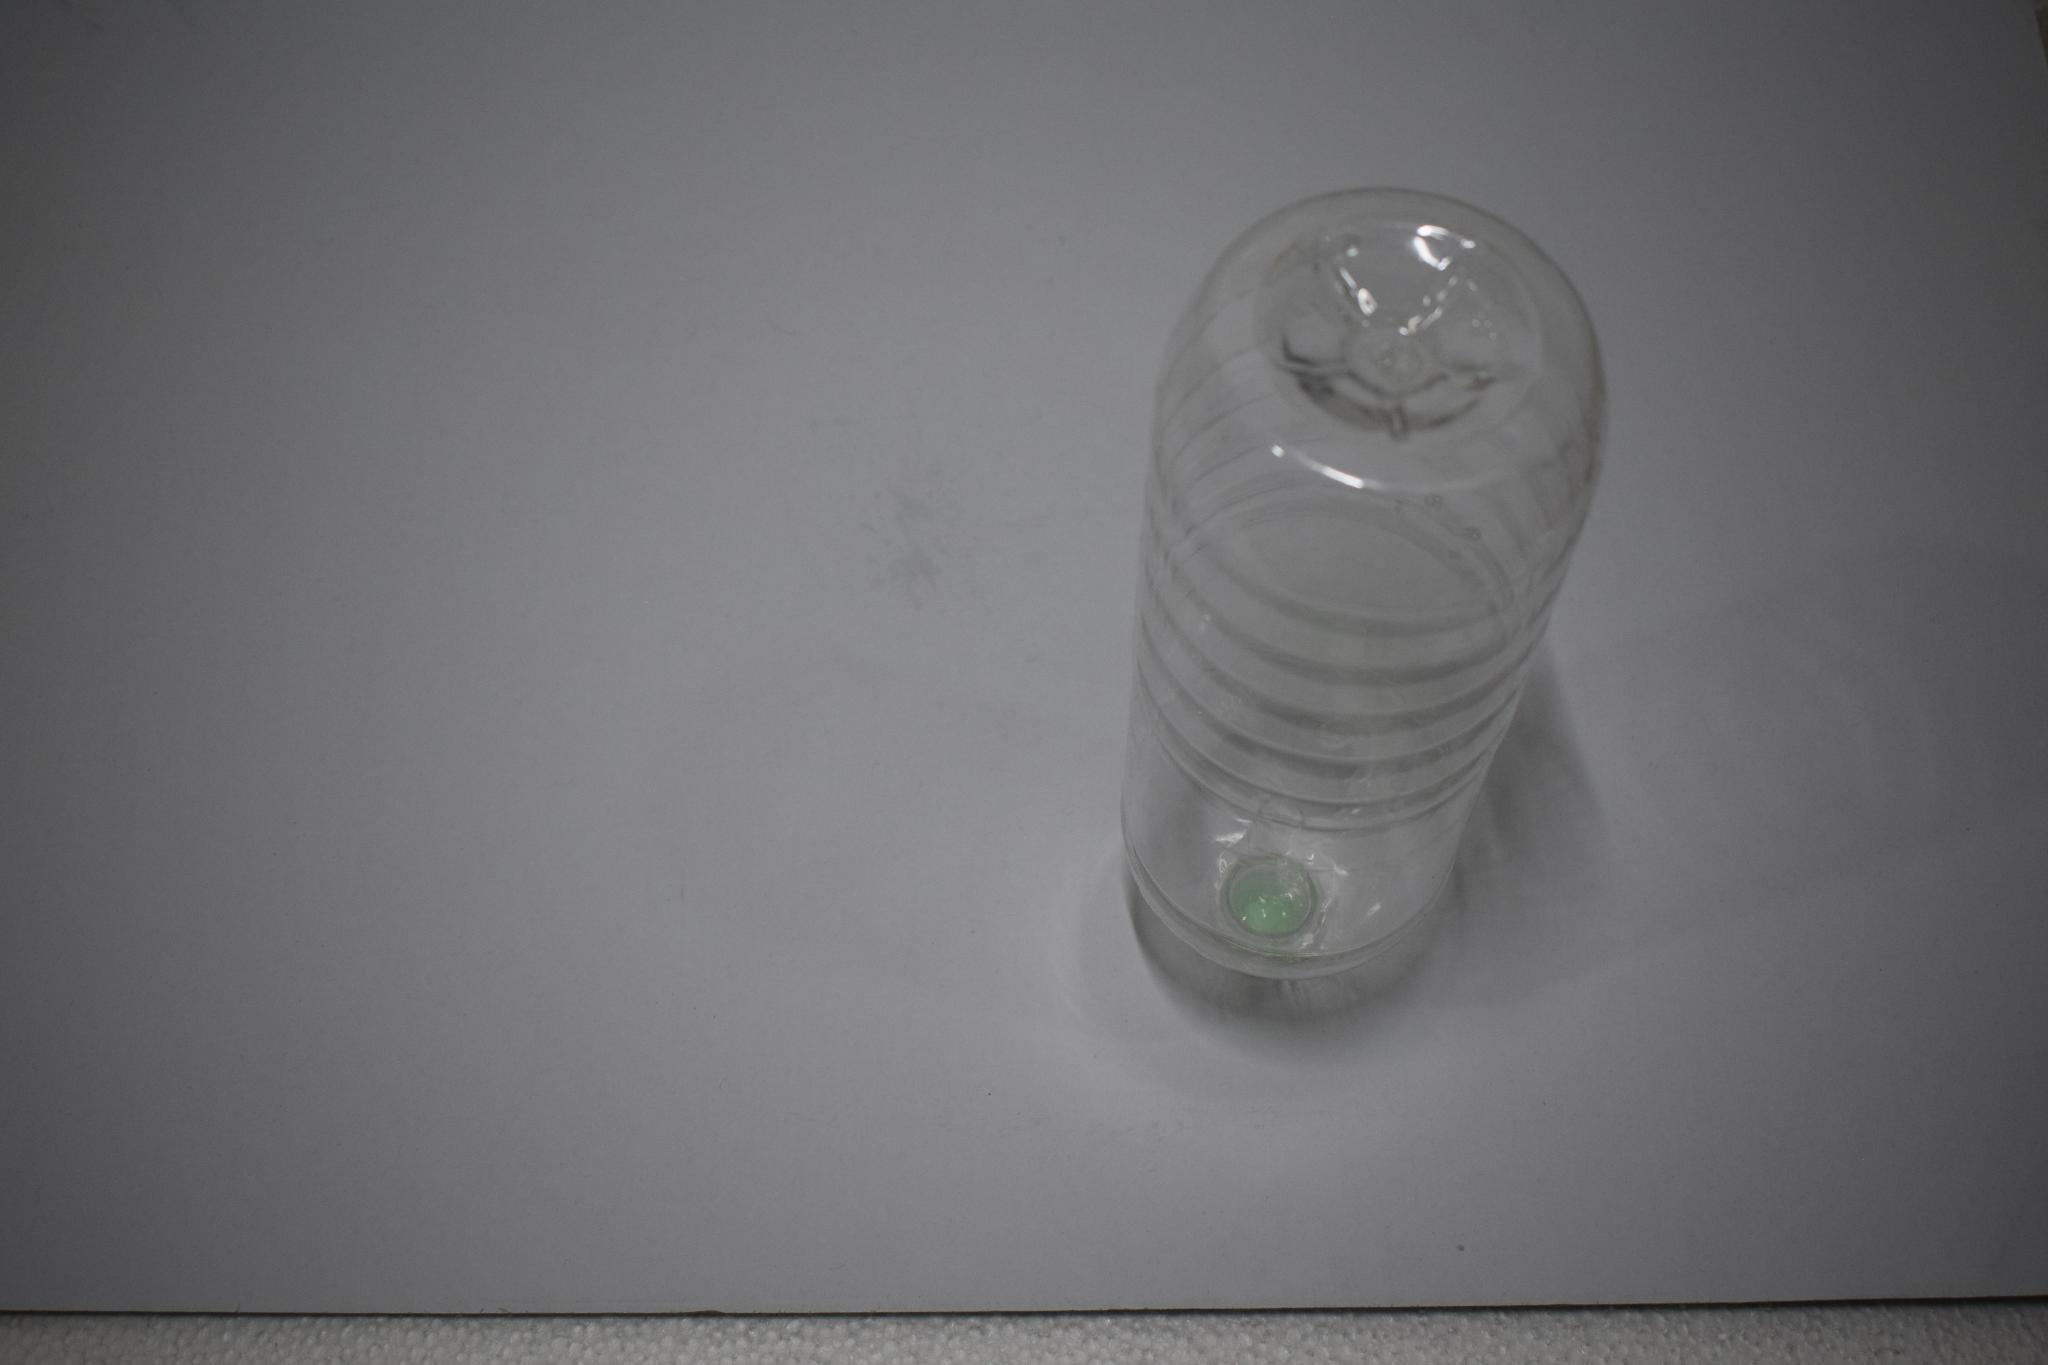bottle: (1100, 174, 1604, 992)
